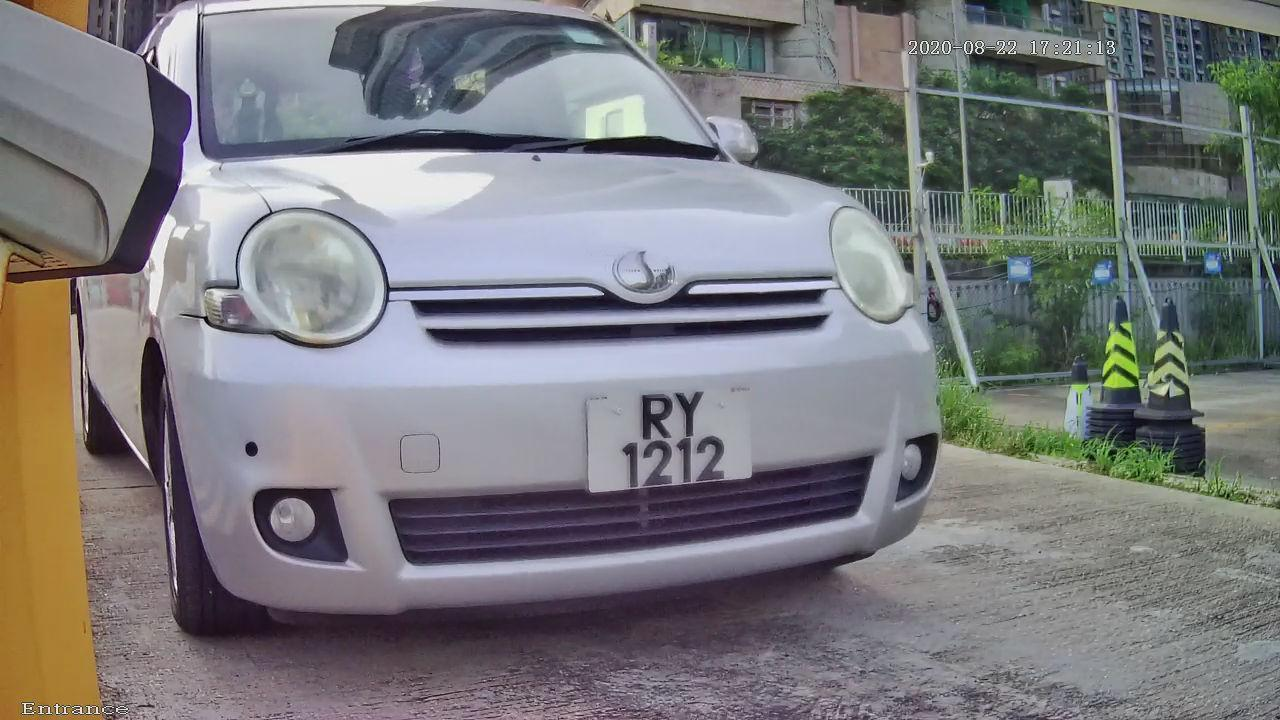Car: (29, 7, 1023, 688)
License Plate: (578, 367, 761, 515)
